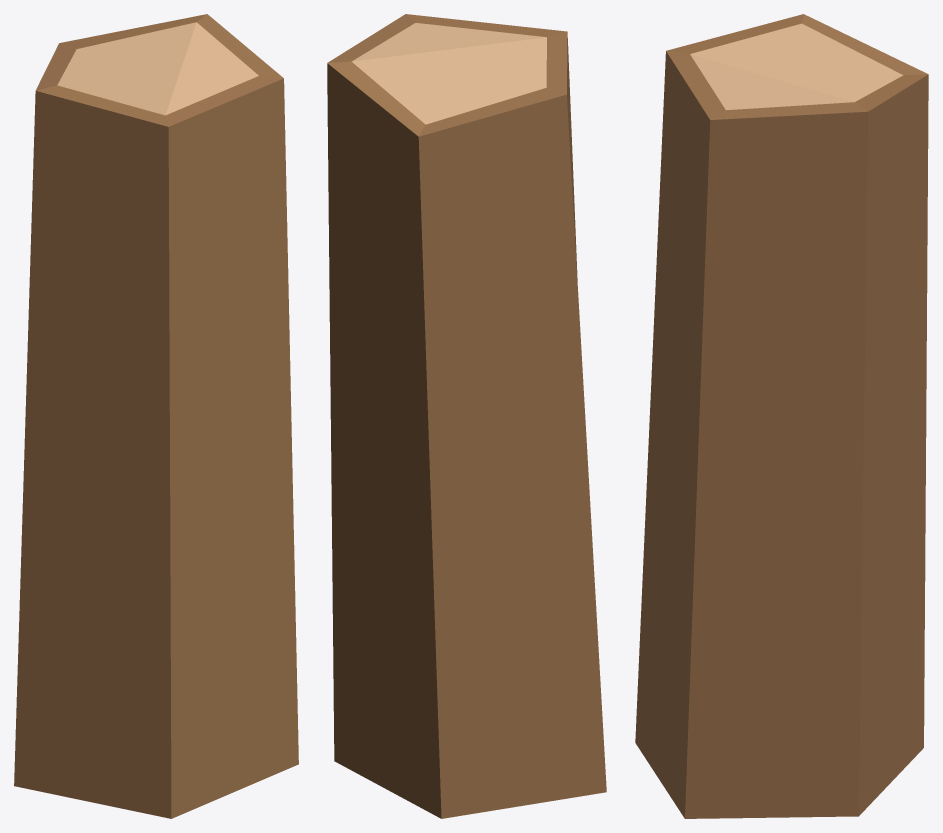
Rendered from Pine_Stump_01.fbx.
3 renders of one model, left to right at view 1: azimuth 30°, elevation 25°; view 2: azimuth 150°, elevation 25°; view 3: azimuth 270°, elevation 25°, orthographic. The views are drawn at different scales.
Visible parts, largest first — view 1: Pine_Stump_01; view 2: Pine_Stump_01; view 3: Pine_Stump_01.
Part boxes in pixels (<box>): Pine_Stump_01: <box>14,14,298,818</box>; Pine_Stump_01: <box>327,14,606,818</box>; Pine_Stump_01: <box>635,14,928,818</box>.
Size of the model in its own units: 64.79 by 180 by 67.77.
